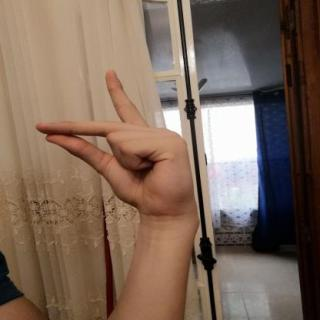TAA: (26, 62, 208, 221)
